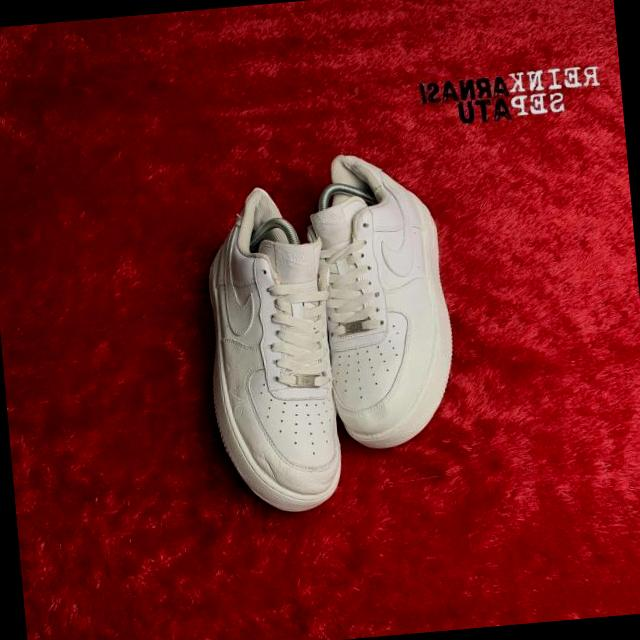nike_fake_airforce: (183, 180, 340, 524), (298, 144, 461, 454)
